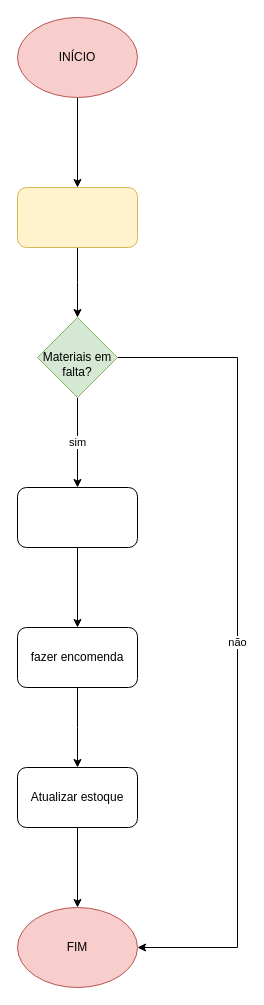
Image size: 264x1005. Some labels were removed from this diagram. Each missing label, with the box of its shape:
Listar materias: (16, 486, 138, 548)
Verificação do estoque: (16, 186, 138, 248)
